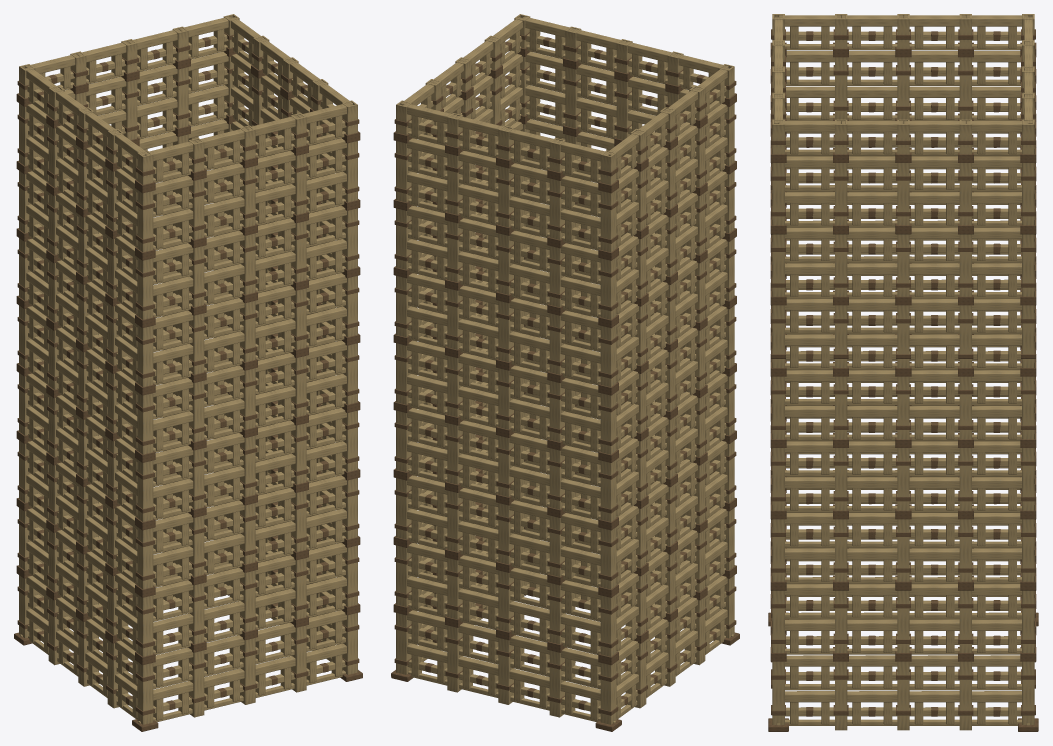
The picture shows the model from 3 angles, left to right: view 1: azimuth 30°, elevation 25°; view 2: azimuth 150°, elevation 25°; view 3: azimuth 270°, elevation 25°; orthographic projection. The views are drawn at different scales.
Visible parts, largest first — view 1: Tier 0 side 0 post 0, Tier 1 side 0 post 0, Tier 6 side 0 post 0, Tier 7 side 0 post 0, Tier 3 side 0 post 0, Tier 4 side 0 post 0, Tier 2 side 0 post 0, Tier 5 side 0 post 0, Tier 0 side 0 post 1, Tier 0 side 0 post 2, Tier 0 side 0 post 3, Tier 5 side 0 post 2 (+32 smaller); view 2: Tier 0 side 3 post 0, Tier 1 side 3 post 0, Tier 6 side 3 post 0, Tier 7 side 3 post 0, Tier 3 side 3 post 0, Tier 4 side 3 post 0, Tier 2 side 3 post 0, Tier 5 side 3 post 0, Tier 0 side 2 post 2, Tier 0 side 2 post 3, Tier 0 side 2 post 1, Tier 5 side 2 post 2 (+32 smaller); view 3: Tier 0 side 1 post 2, Tier 0 side 1 post 1, Tier 0 side 1 post 3, Tier 0 side 1 post 0, Tier 0 side 2 post 0, Tier 2 side 1 post 0, Tier 2 side 1 post 2, Tier 2 side 2 post 0, Tier 3 side 1 post 0, Tier 3 side 1 post 2, Tier 3 side 2 post 0, Tier 4 side 1 post 0 (+111 smaller).
Part boxes in pixels (x1,y1,x2,y2): Tier 0 side 0 post 0: (137,662,153,724); Tier 1 side 0 post 0: (137,594,153,656); Tier 6 side 0 post 0: (137,257,153,319); Tier 7 side 0 post 0: (137,190,153,252); Tier 3 side 0 post 0: (137,459,153,521); Tier 4 side 0 post 0: (137,392,153,454); Tier 2 side 0 post 0: (137,527,153,589); Tier 5 side 0 post 0: (137,325,153,386); Tier 0 side 0 post 1: (189,650,204,717); Tier 0 side 0 post 2: (240,638,255,704); Tier 0 side 0 post 3: (291,625,306,692); Tier 5 side 0 post 2: (240,300,255,362); Tier 0 side 3 post 0: (600,662,616,724); Tier 1 side 3 post 0: (600,594,616,656); Tier 6 side 3 post 0: (600,257,616,319); Tier 7 side 3 post 0: (600,190,616,252); Tier 3 side 3 post 0: (600,459,616,521); Tier 4 side 3 post 0: (600,392,616,454); Tier 2 side 3 post 0: (600,527,616,589); Tier 5 side 3 post 0: (600,325,616,386); Tier 0 side 2 post 2: (498,638,513,704); Tier 0 side 2 post 3: (549,650,565,717); Tier 0 side 2 post 1: (447,625,462,692); Tier 5 side 2 post 2: (498,300,513,362); Tier 0 side 1 post 2: (897,661,909,730); Tier 0 side 1 post 1: (835,661,847,730); Tier 0 side 1 post 3: (959,661,971,730); Tier 0 side 1 post 0: (772,661,784,724); Tier 0 side 2 post 0: (1022,661,1034,724); Tier 2 side 1 post 0: (772,519,784,581); Tier 2 side 1 post 2: (897,519,909,581); Tier 2 side 2 post 0: (1022,519,1034,581); Tier 3 side 1 post 0: (772,448,784,510); Tier 3 side 1 post 2: (897,448,909,510); Tier 3 side 2 post 0: (1022,448,1034,510); Tier 4 side 1 post 0: (772,376,784,439).
Bounding box in the file's own units: 1.95 × 4.82 × 1.95.
Materials: 2 (2 with a texture image).
